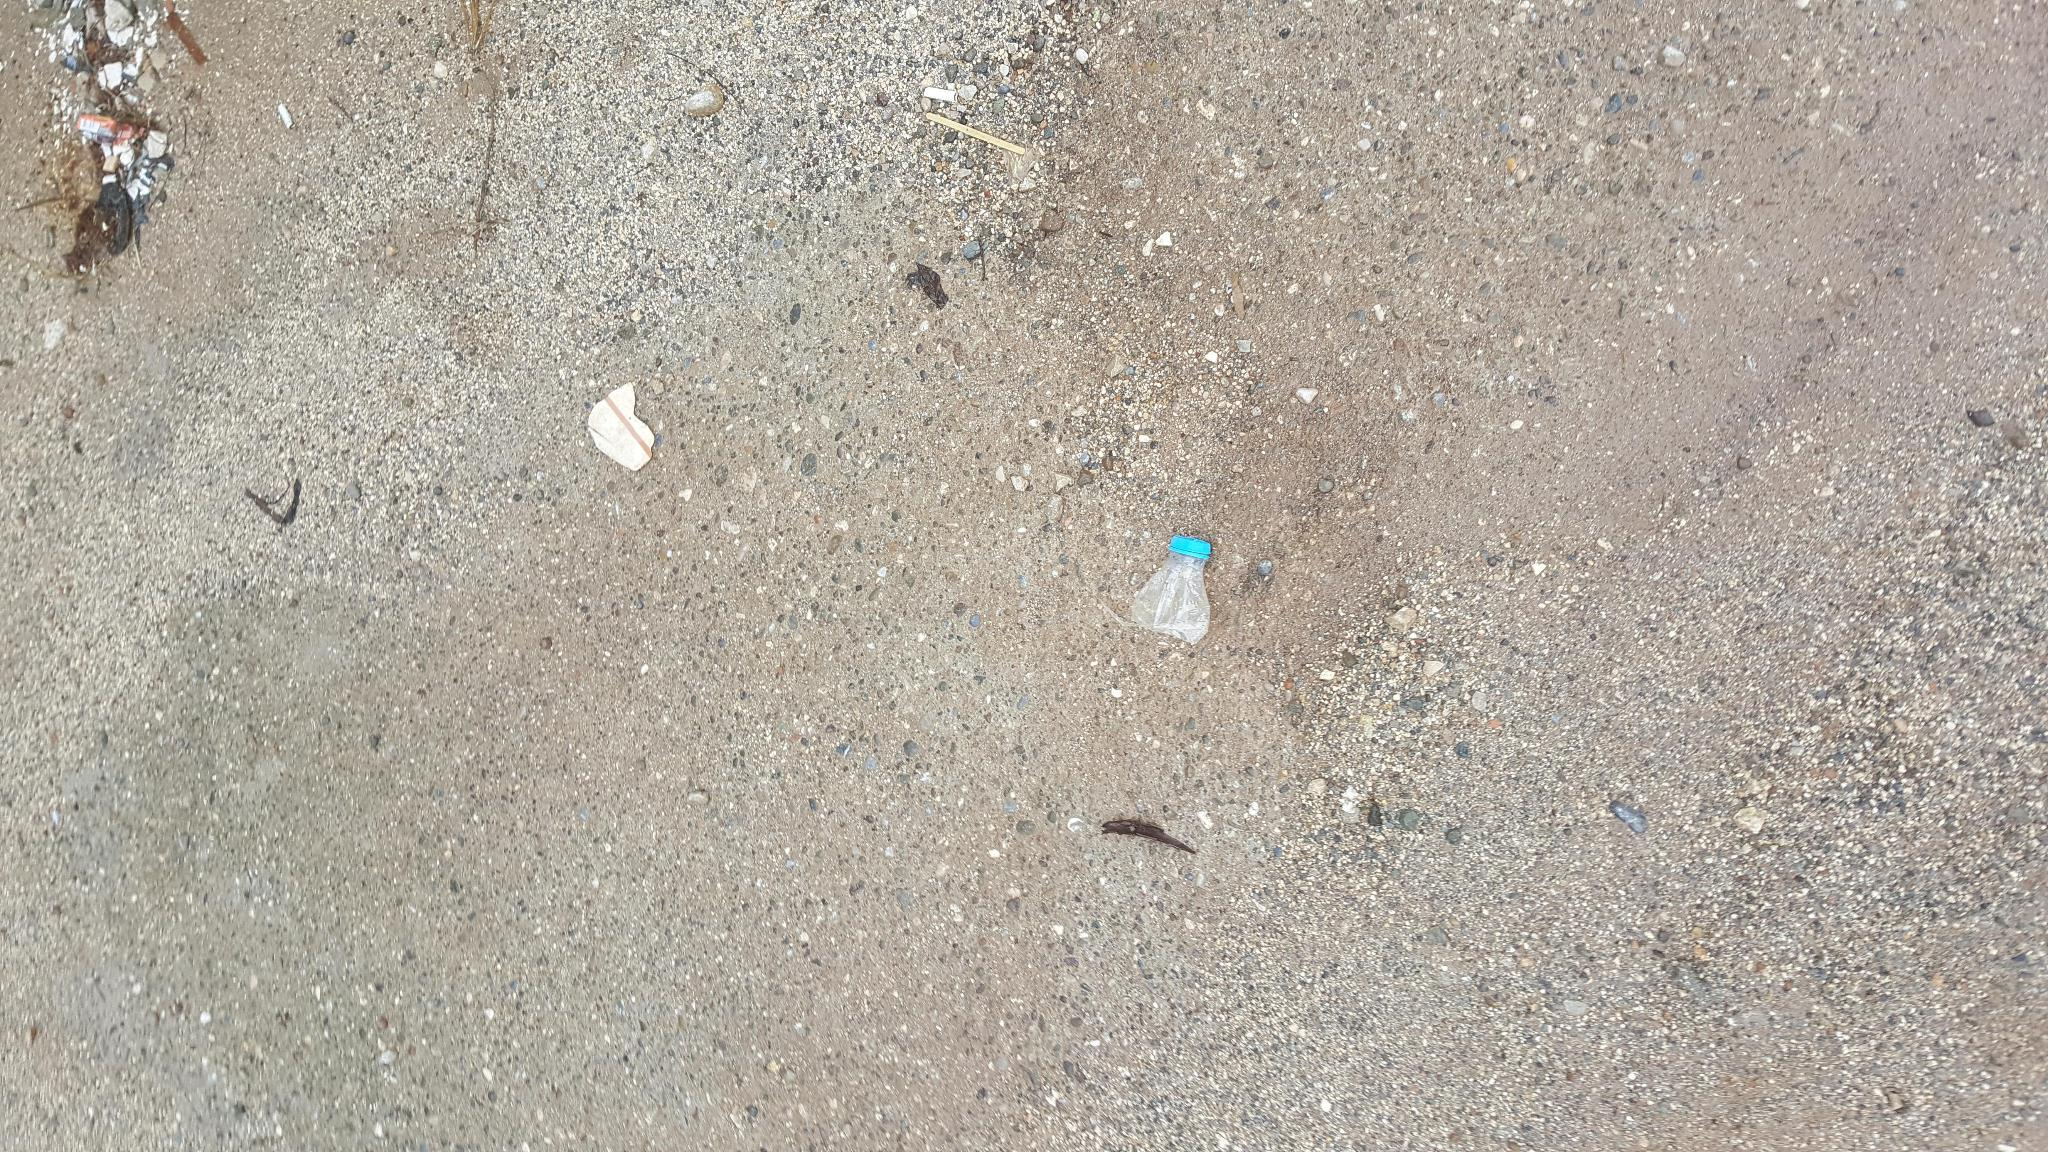bottle: (1118, 509, 1234, 657)
